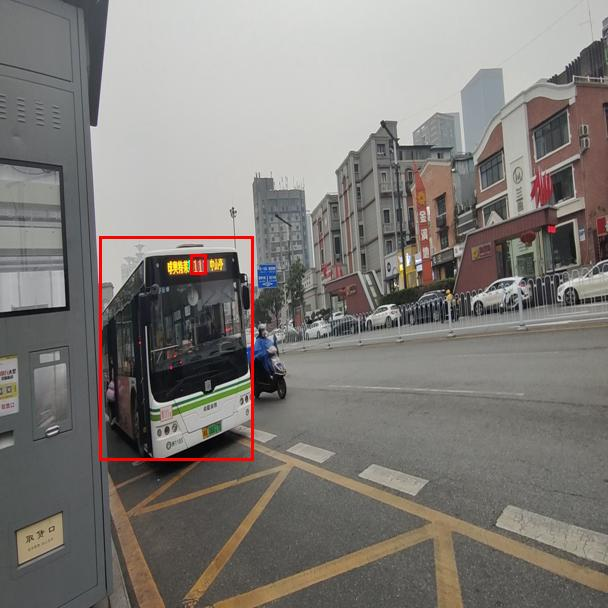bus: (99, 236, 253, 460)
screen: (190, 254, 206, 274)
